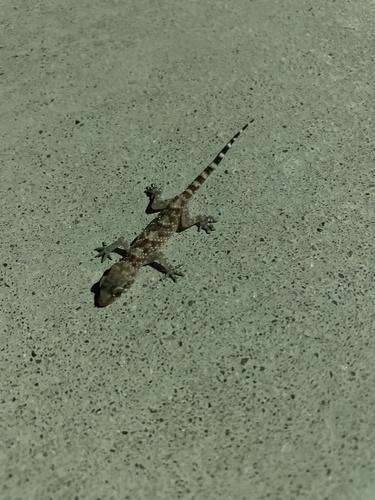lizard: (89, 118, 254, 309)
